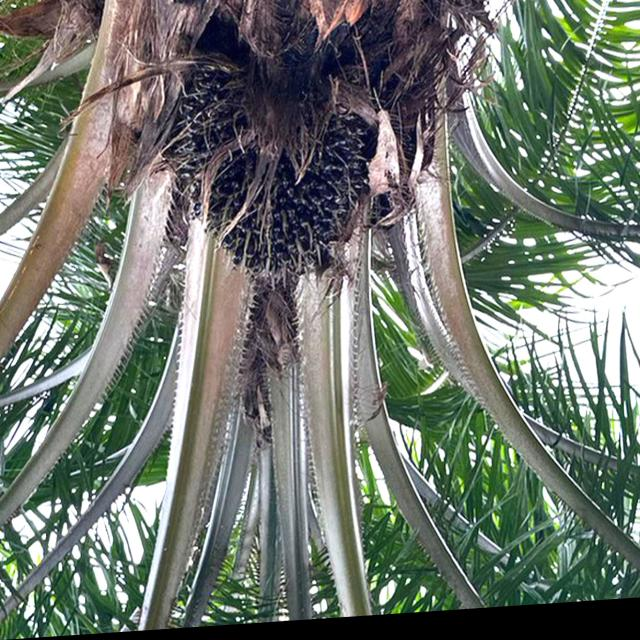unripe: (158, 70, 374, 302)
